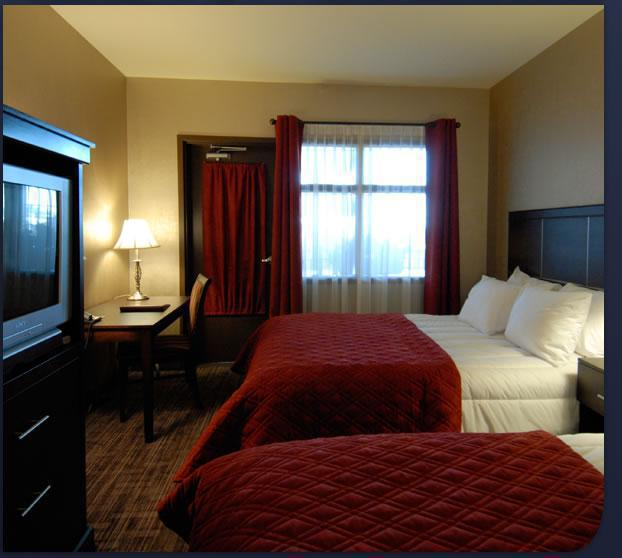Armario: (4, 140, 82, 552)
Cama: (215, 283, 597, 432), (191, 423, 597, 548)
Ventana: (289, 120, 439, 280)
